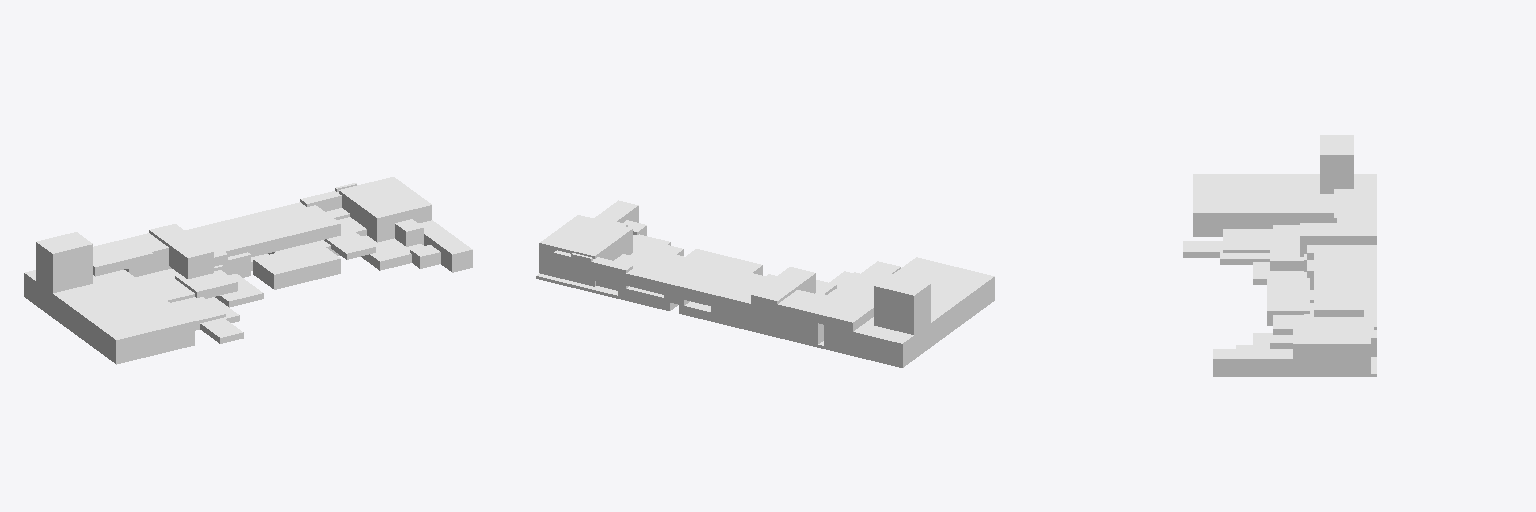
Rendered from blocky_bottom_01.obj.
3 views of the same model, side by side, from view 1: azimuth 30°, elevation 25°; view 2: azimuth 150°, elevation 25°; view 3: azimuth 270°, elevation 25° (orthographic).
Bounding box in the file's own units: 126 × 21 × 58.